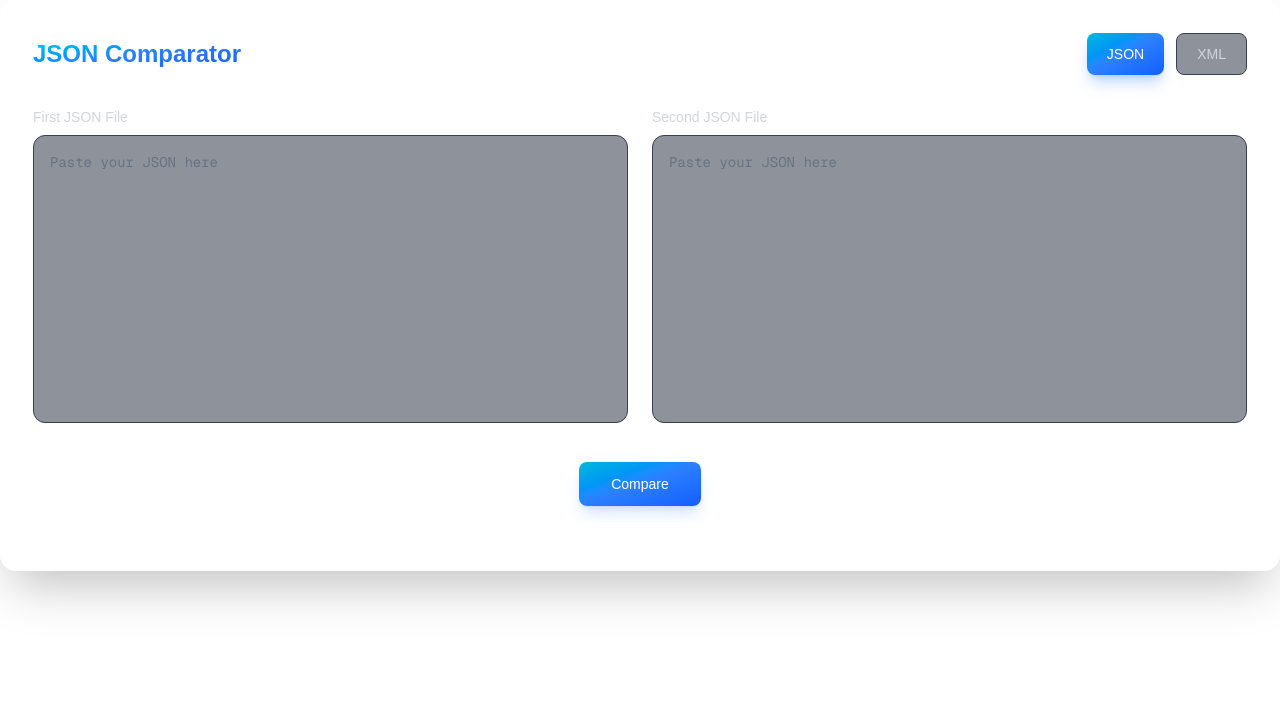
Test: Comparator › switches between JSON and XML
This screenshot has width=1280, height=720.
Click the button "XML": [1212, 54] box [1176, 33, 1247, 75]
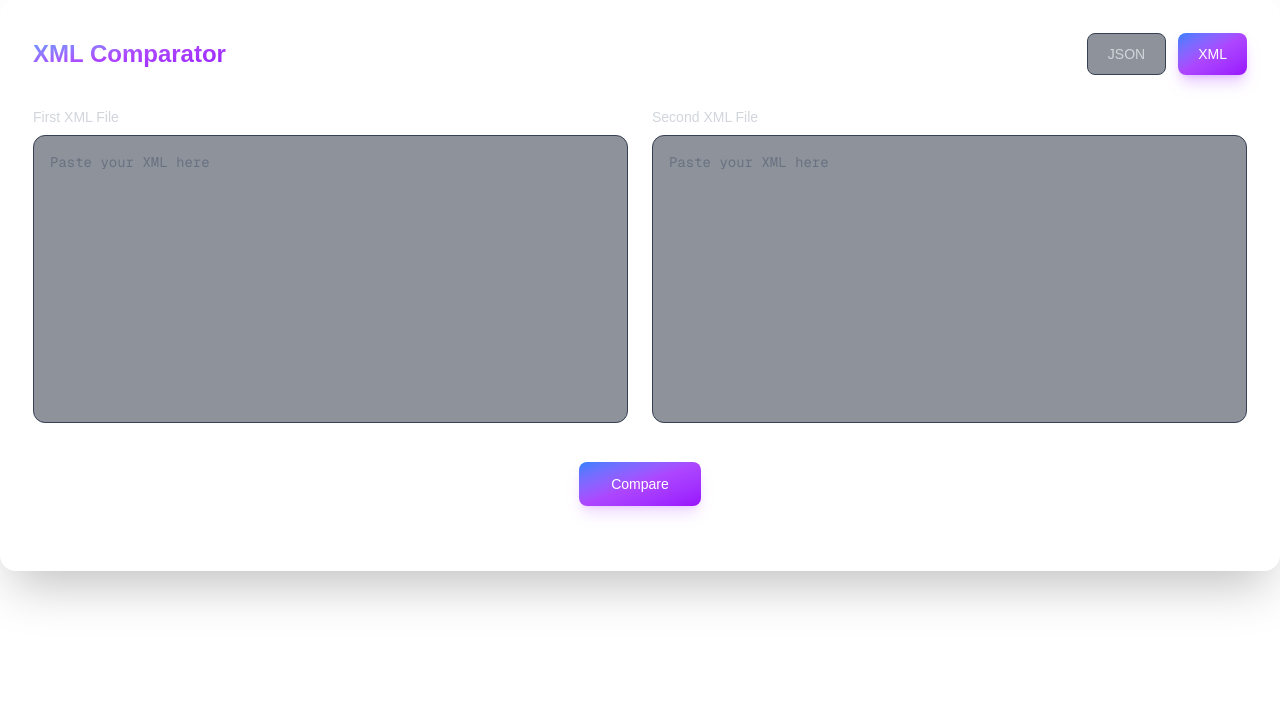
Result: the heading "XML Comparator" is shown at [33, 38, 226, 70]
